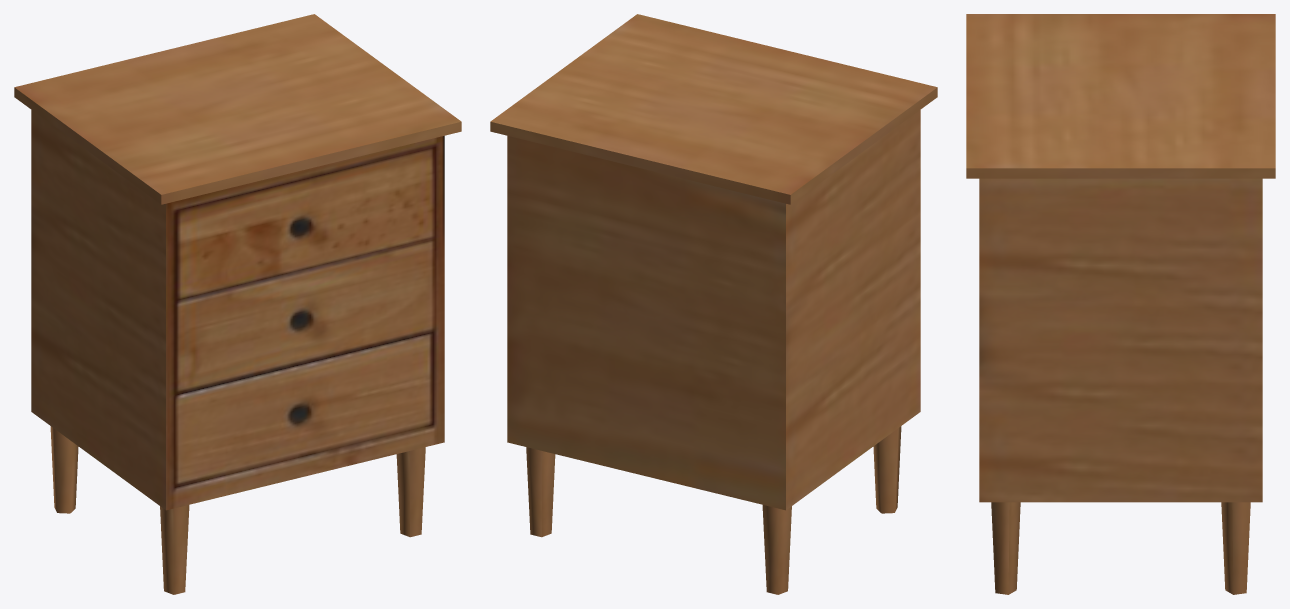
The model's file is Chest_drawers_03-col.glb.
The picture shows the model from 3 angles, left to right: view 1: azimuth 30°, elevation 25°; view 2: azimuth 150°, elevation 25°; view 3: azimuth 270°, elevation 25°; orthographic projection. The views are drawn at different scales.
Visible parts, largest first — view 1: Chest_drawers_03-col; view 2: Chest_drawers_03-col; view 3: Chest_drawers_03-col.
Part boxes in pixels (x1,y1,x2,y2): Chest_drawers_03-col: (14, 14, 461, 594); Chest_drawers_03-col: (490, 14, 937, 594); Chest_drawers_03-col: (966, 14, 1275, 594).
Bounding box in the file's own units: 2.16 × 2.86 × 1.83.
1 material, 1 textured.
